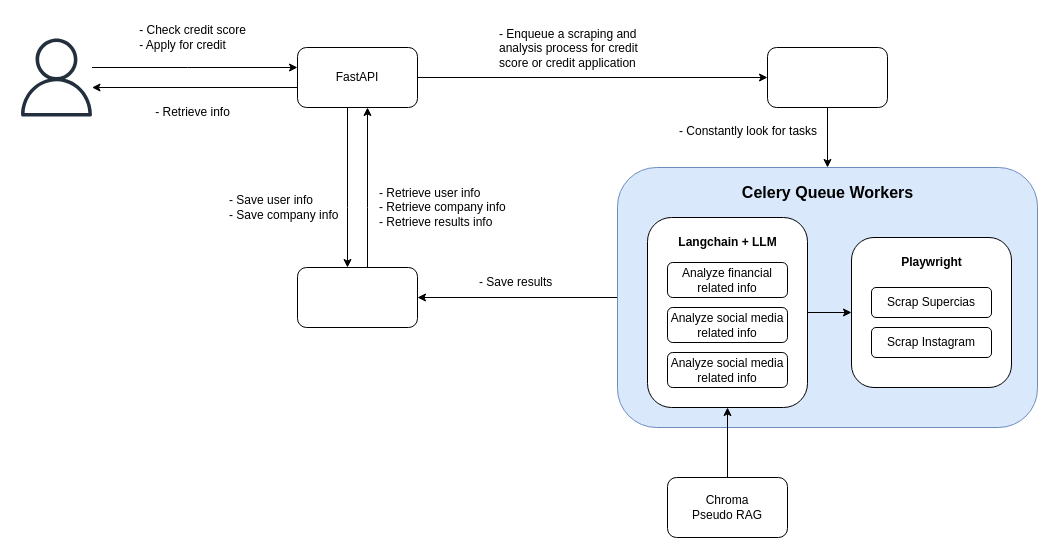
Some shapes in this 1055 by 555 pixel diagram are drawn without their labels. Each missing label, with the centre of its shape:
Client: (x=56, y=77)
Postgres: (x=357, y=297)
Redis Broker: (x=827, y=77)
